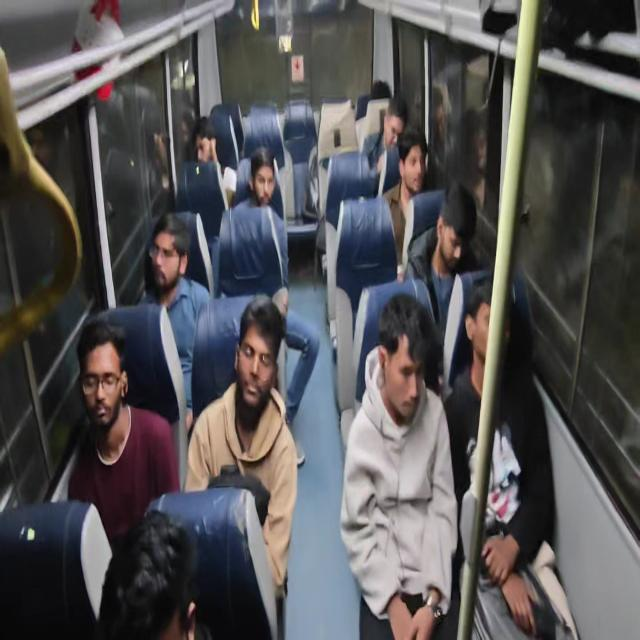person: (232, 288, 294, 466), (76, 308, 138, 467), (370, 295, 434, 423), (142, 186, 196, 296), (468, 274, 510, 365), (436, 192, 477, 275), (186, 115, 225, 177), (396, 133, 426, 193), (250, 148, 276, 208), (382, 102, 412, 143), (366, 87, 399, 120)
